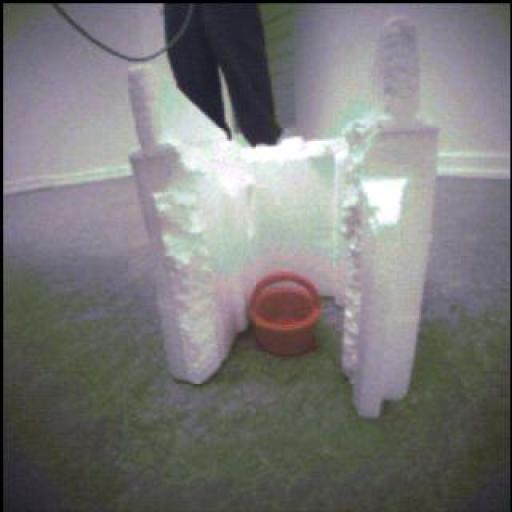Bucket: (244, 270, 324, 356)
